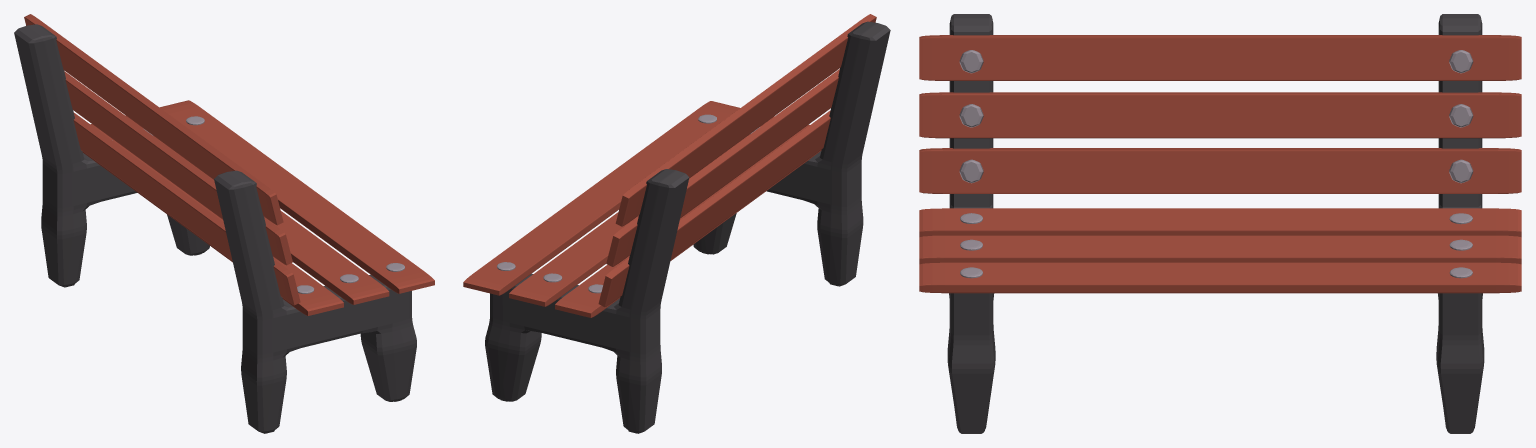
The model's file is ParkBench.fbx.
The picture shows the model from 3 angles, left to right: view 1: azimuth 30°, elevation 25°; view 2: azimuth 150°, elevation 25°; view 3: azimuth 270°, elevation 25°; orthographic projection. The views are drawn at different scales.
Parts seen in each view (by area): view 1: Cube.006, Cube.001, Cylinder.005; view 2: Cube.006, Cube.001, Cylinder.005; view 3: Cube.006, Cube.001, Cylinder.005.
Boxes of the visible parts, x1,y1,x2,y2 form: Cube.006: (24,14,434,315); Cube.001: (14,24,416,433); Cylinder.005: (112,116,404,293); Cube.006: (463,14,876,317); Cube.001: (485,21,890,433); Cylinder.005: (497,114,759,293); Cube.006: (919,35,1521,293); Cube.001: (947,14,1484,433); Cylinder.005: (959,50,1473,278).
Bounding box in the file's own units: 249 × 321 × 551.
